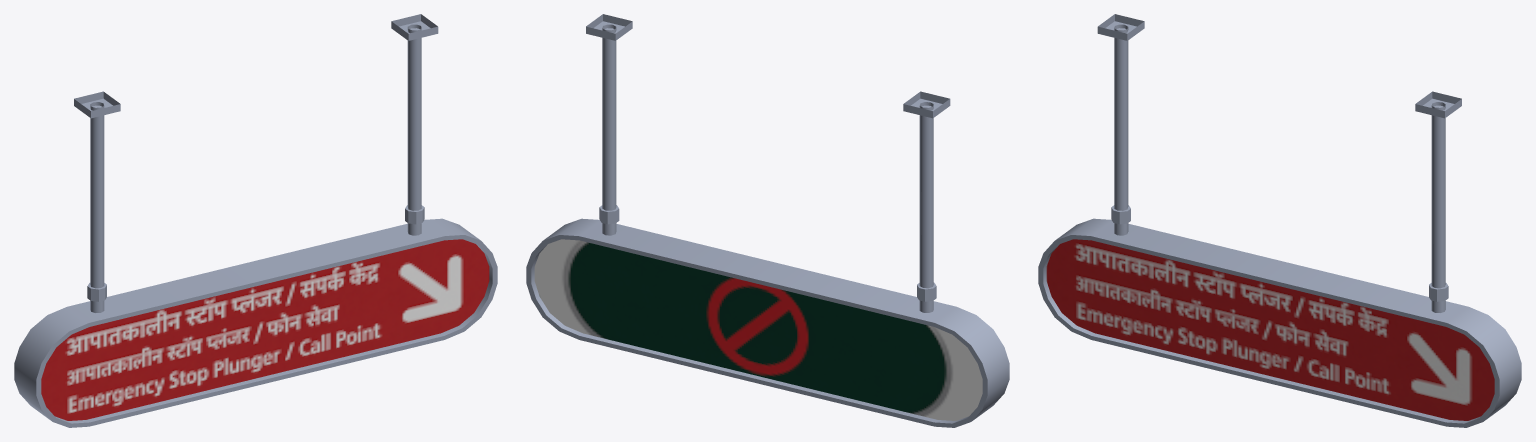
The model's file is StationNameBoardHanging_2_005.fbx.
3 renders of one model, left to right at view 1: azimuth 30°, elevation 25°; view 2: azimuth 150°, elevation 25°; view 3: azimuth 330°, elevation 25°, orthographic.
Visible parts, largest first — view 1: StationNameBoardHanging_2.005; view 2: StationNameBoardHanging_2.005; view 3: StationNameBoardHanging_2.005.
Boxes of the visible parts, box(x1,y1,x2,y2) form: StationNameBoardHanging_2.005: box(14, 14, 497, 427); StationNameBoardHanging_2.005: box(526, 14, 1009, 427); StationNameBoardHanging_2.005: box(1038, 14, 1521, 427).
Bounding box in the file's own units: 4.42 × 2.86 × 0.3663.
